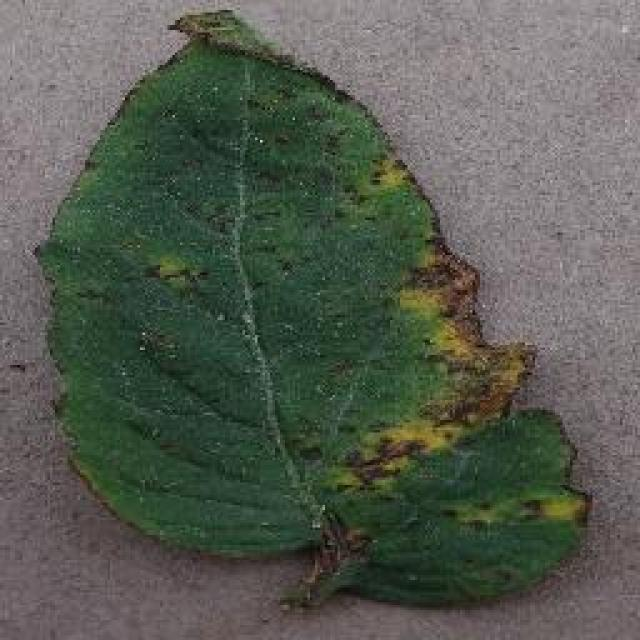Tomato___Bacterial_spot: (27, 6, 597, 619)
